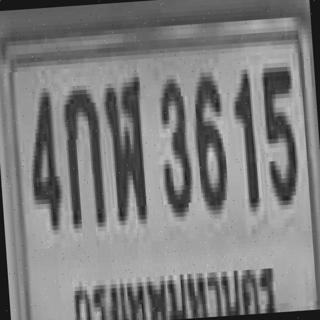A01: (60, 84, 104, 224)
A42: (102, 70, 147, 219)
N01: (229, 65, 258, 208)
N03: (156, 74, 192, 213)
N04: (24, 83, 62, 227)
N05: (260, 62, 298, 202)
N06: (190, 67, 226, 206)
P04: (65, 257, 282, 320)
